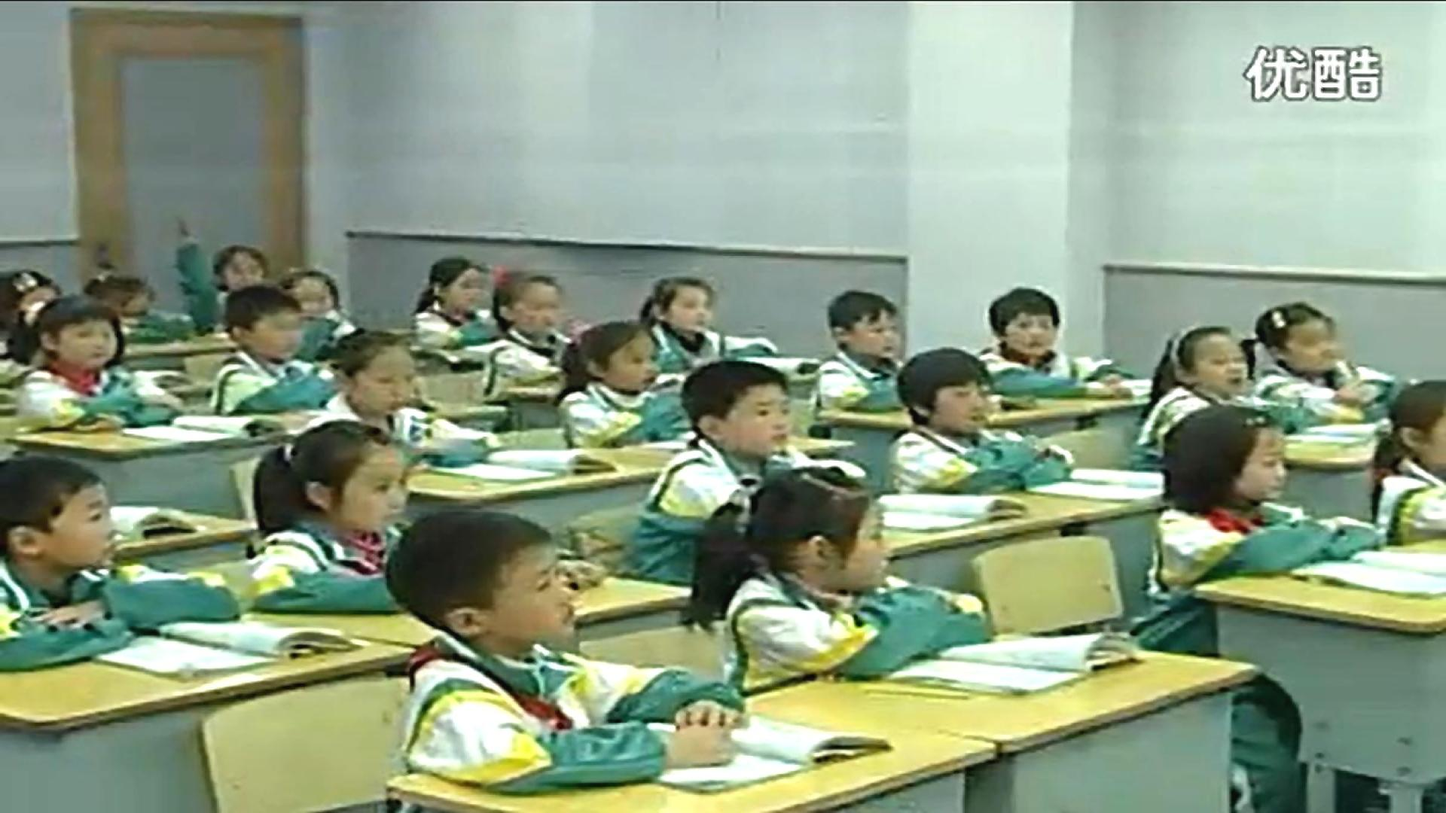Normal: (408, 527, 721, 780), (890, 365, 1053, 492)
